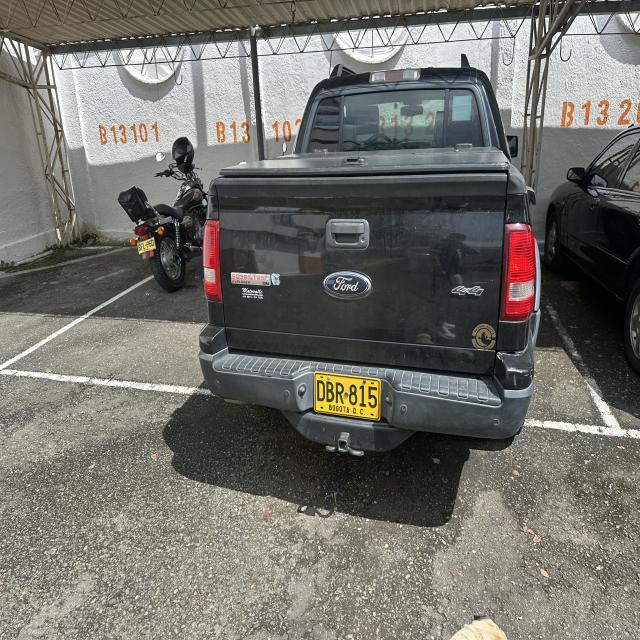number plate: (314, 371, 380, 420)
